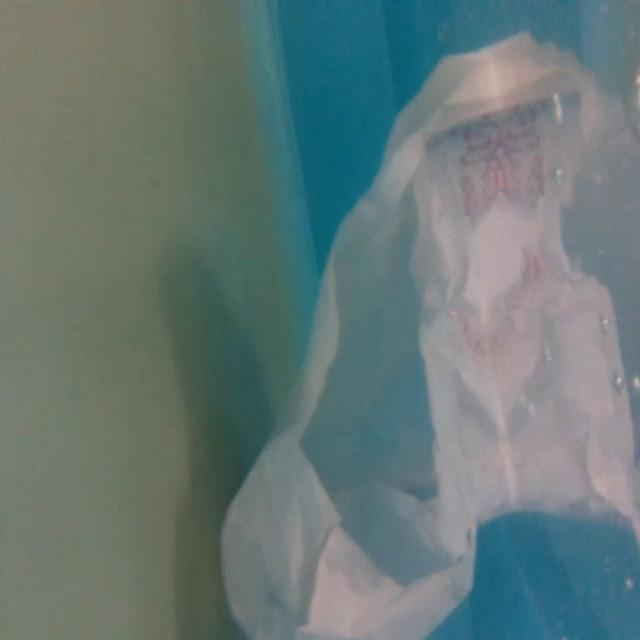plastic bags: (220, 33, 639, 640)
